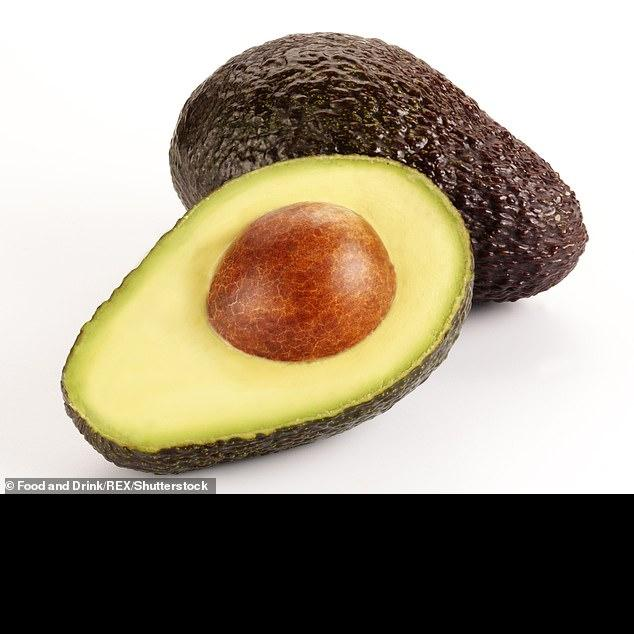ripe: (169, 33, 589, 305)
